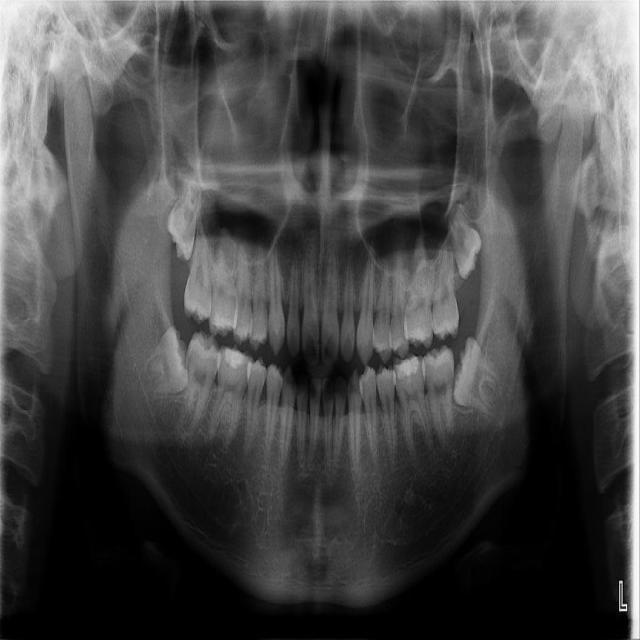Filling: (222, 347, 249, 373), (396, 357, 418, 381)
impacted tooth: (454, 339, 510, 420), (139, 328, 187, 406), (165, 159, 204, 255), (447, 191, 481, 279)
